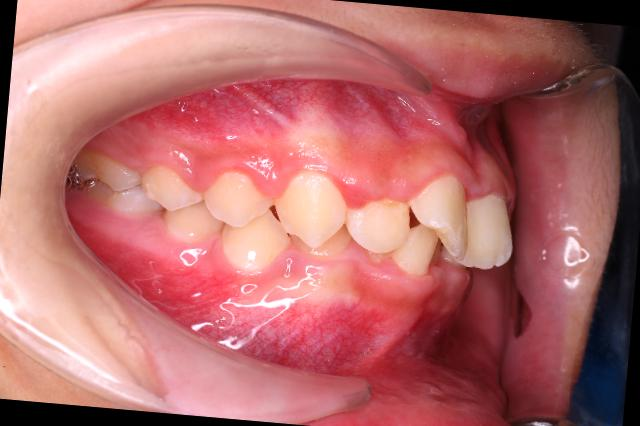canine class II 1/2: (216, 158, 358, 290)
molar class I: (72, 146, 164, 220)
